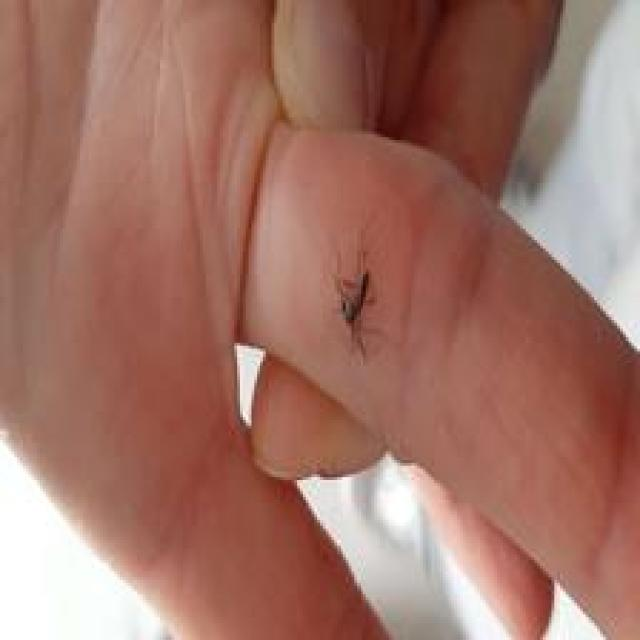Culex: (334, 269, 372, 360)
